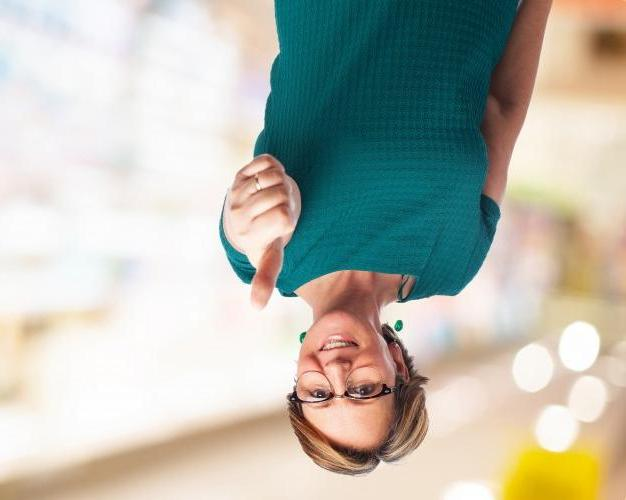thumbsdown: (228, 152, 296, 311)
